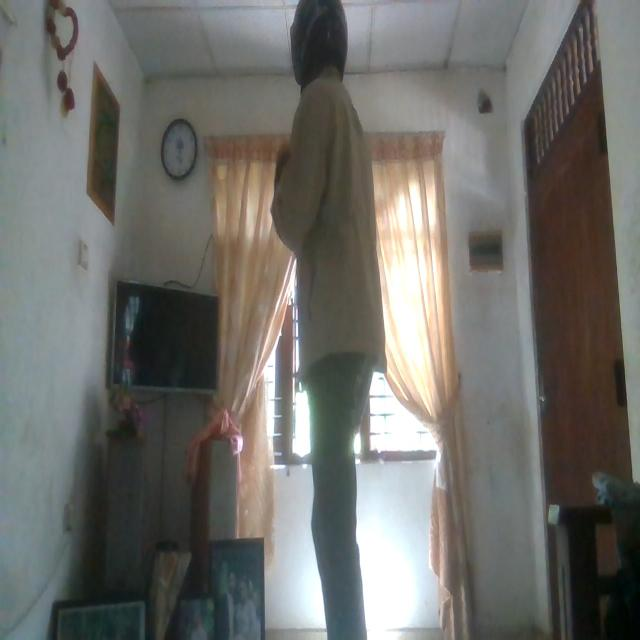Helmet_Wearer: (282, 0, 357, 108)
Jacket_Wearer: (266, 68, 390, 370)
Person: (268, 0, 393, 640)
